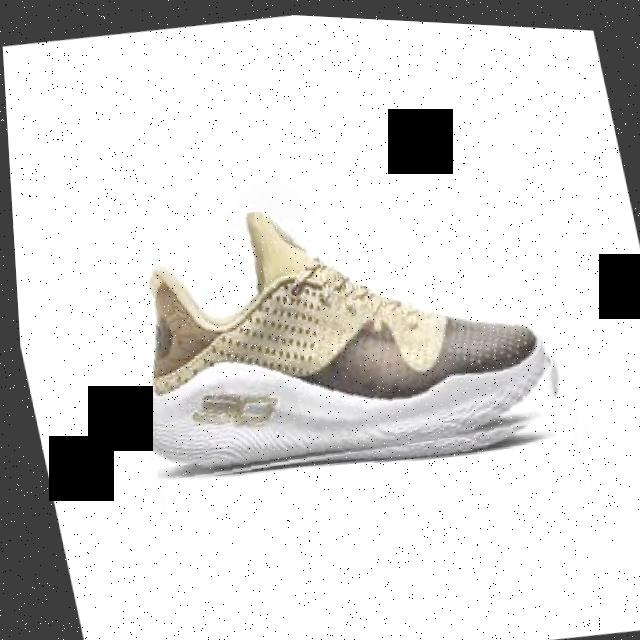shoe: (98, 161, 572, 501)
